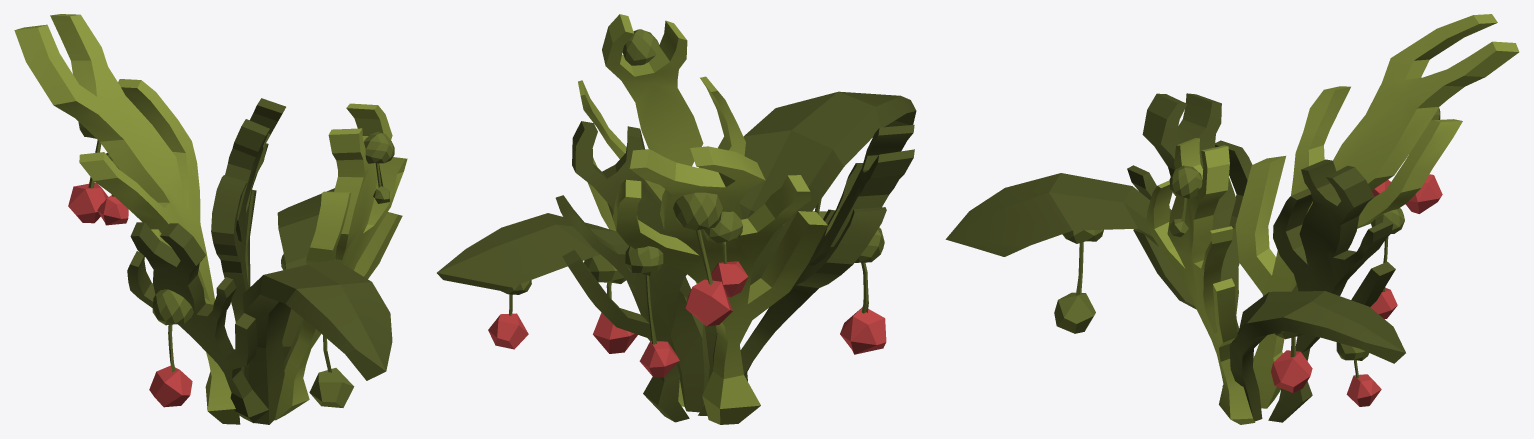
Rendered from ea_swamp_leaffruits_01a_pre__9__lev1.glb.
3 views of the same model, side by side, from view 1: azimuth 30°, elevation 25°; view 2: azimuth 150°, elevation 25°; view 3: azimuth 270°, elevation 25° (orthographic). The views are drawn at different scales.
Parts seen in each view (by area): view 1: ea_swamp_leaffruits_01a_pre__9__lev1; view 2: ea_swamp_leaffruits_01a_pre__9__lev1; view 3: ea_swamp_leaffruits_01a_pre__9__lev1.
Part boxes in pixels (x1=…): ea_swamp_leaffruits_01a_pre__9__lev1: x1=14, y1=14, x2=407, y2=424; ea_swamp_leaffruits_01a_pre__9__lev1: x1=437, y1=14, x2=916, y2=424; ea_swamp_leaffruits_01a_pre__9__lev1: x1=945, y1=14, x2=1519, y2=424.
Bounding box in the file's own units: 1.12 × 1.16 × 1.74.
1 material, 1 textured.
